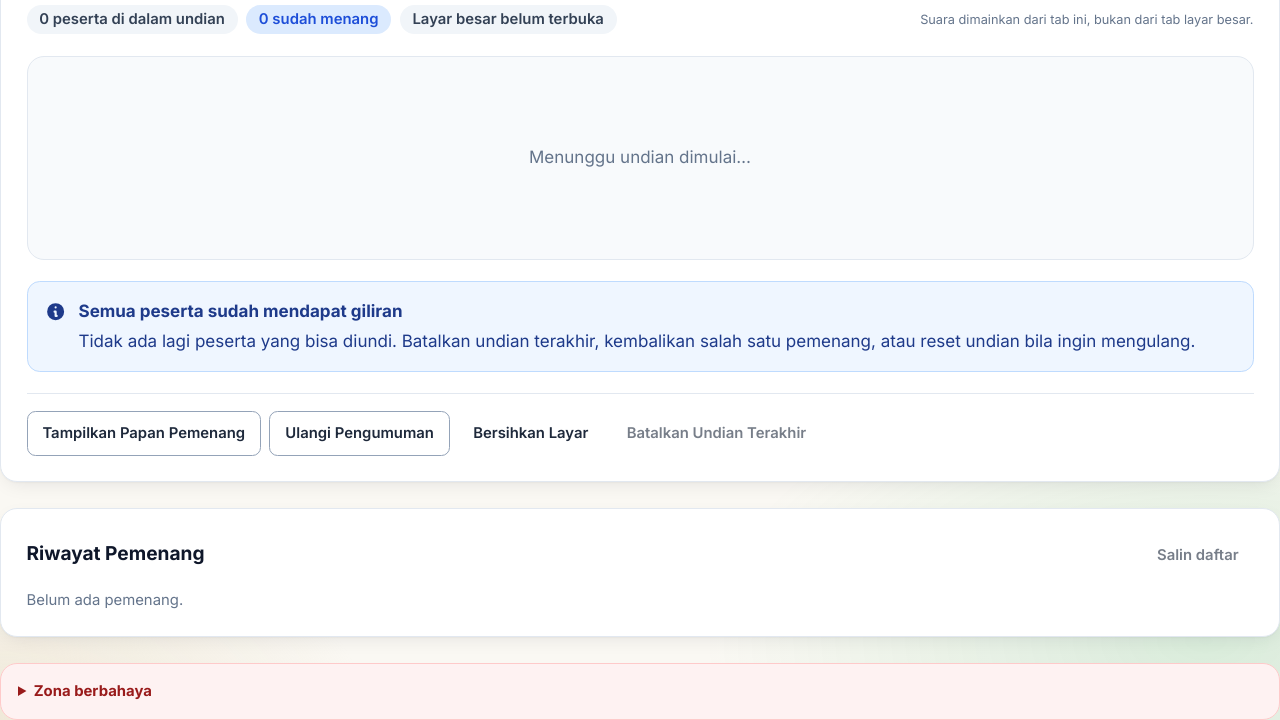
Test: LotteryControlPage — tombol perintah layar › mengatakan tab layar besar belum terdeteksi alih-alih diam
The width and height of the screenshot is (1280, 720).
(page scrolled)
Step 1. Click the button "Bersihkan Layar" → (531, 434), box [458,411,603,456]
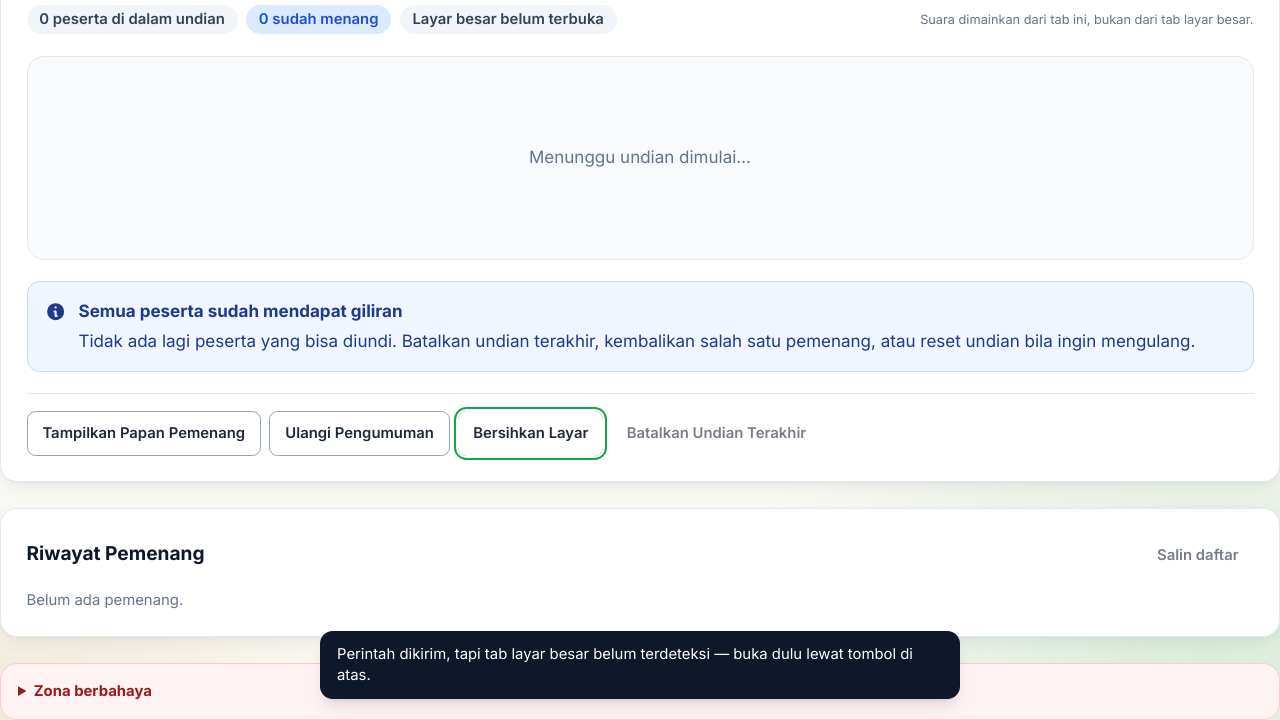
Result: the text "belum terdeteksi" is shown at [337,644,913,684]
